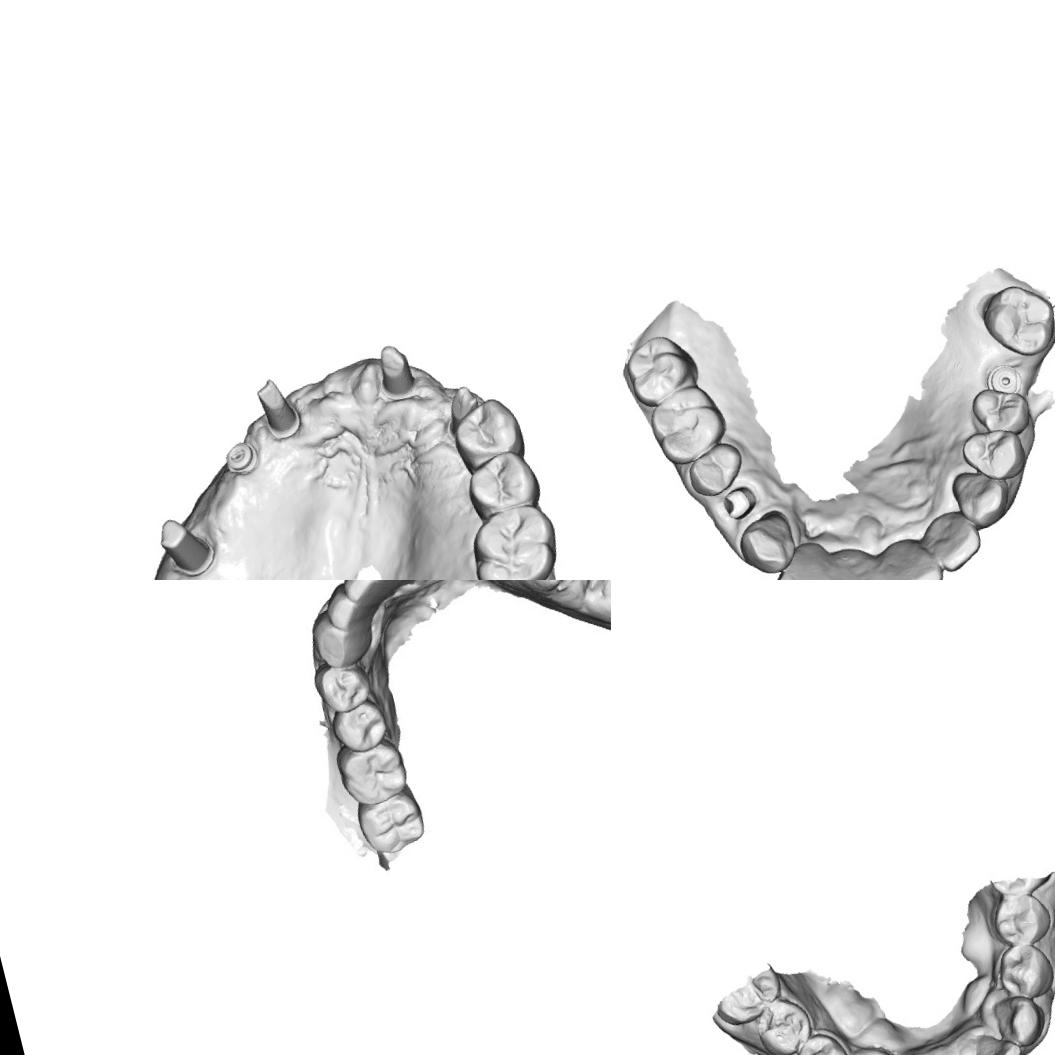abutment: (153, 508, 220, 580), (252, 372, 304, 444), (370, 339, 420, 405), (440, 380, 484, 432), (719, 483, 760, 523)
canine: (731, 505, 801, 580), (948, 461, 1016, 534), (983, 989, 1052, 1054), (308, 612, 378, 674)
implant: (981, 360, 1026, 400)
implant_minus: (220, 436, 263, 480)
incisor: (918, 504, 987, 576), (872, 530, 948, 580), (765, 536, 839, 580), (809, 540, 888, 580), (323, 582, 375, 630), (338, 580, 396, 616), (968, 1025, 1028, 1055), (367, 580, 418, 593)
molar: (460, 496, 569, 580), (642, 378, 734, 470), (974, 273, 1055, 363), (618, 327, 704, 410), (334, 735, 412, 808), (354, 789, 429, 857)
premolar: (443, 392, 528, 472), (459, 444, 545, 522), (956, 420, 1030, 488), (986, 887, 1055, 954), (966, 378, 1035, 444), (748, 990, 817, 1055), (989, 938, 1055, 1005), (681, 438, 749, 500), (330, 697, 392, 756), (316, 658, 372, 712), (787, 1025, 854, 1055)
